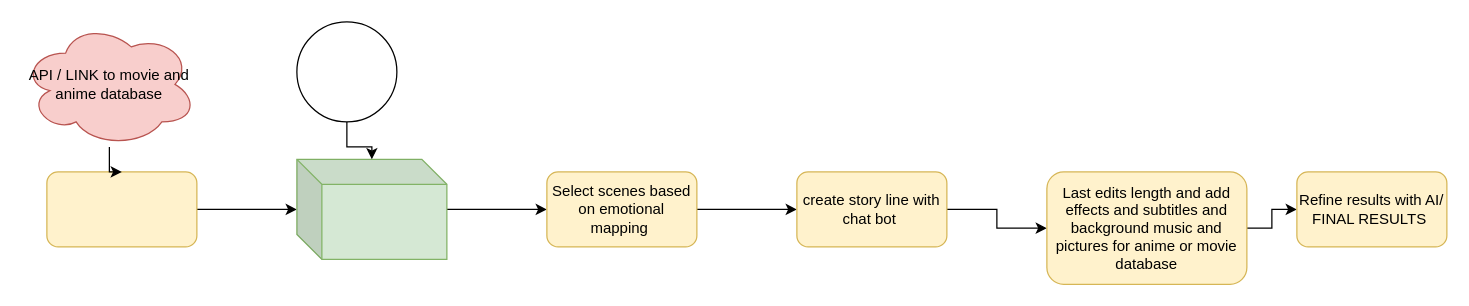
Some shapes in this 1469 by 306 pixel diagram are drawn without their labels. The box of each missing label's shape, as (x1, y1, x2, y2) in pixels:
Upload movie or film lor Anime link: (46, 171, 197, 247)
Video Processor: (296, 158, 447, 259)
